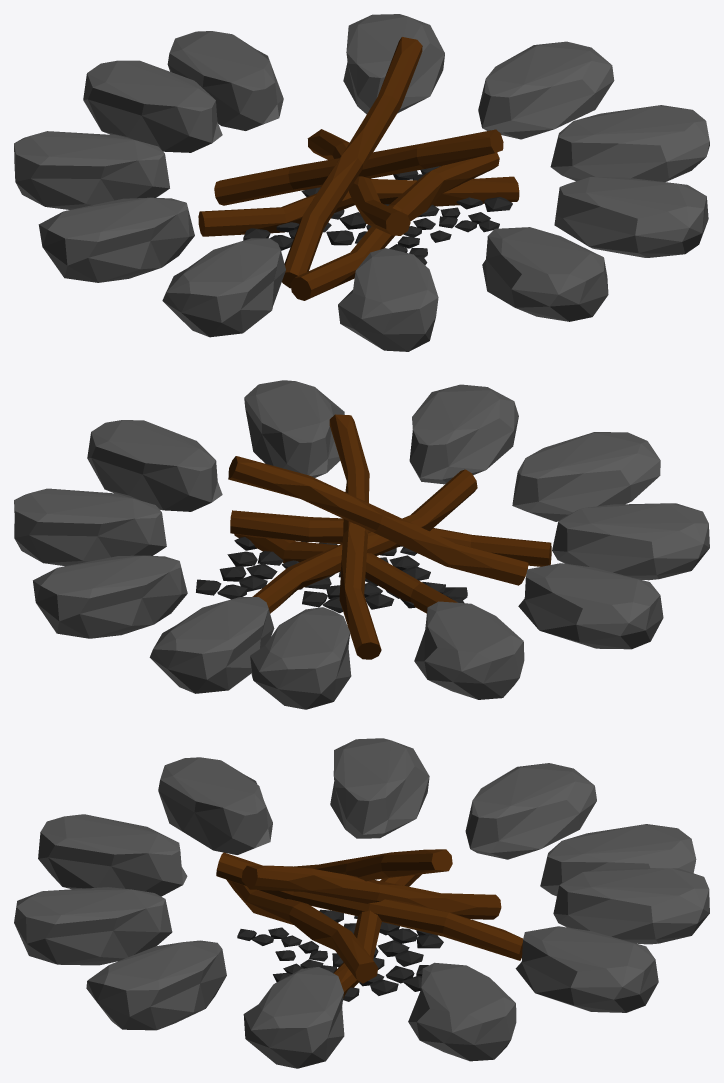
Rendered from Campfire_var_01.fbx.
3 renders of one model, top to bottom at view 1: azimuth 30°, elevation 25°; view 2: azimuth 150°, elevation 25°; view 3: azimuth 270°, elevation 25°, orthographic.
Visible parts, largest first — view 1: Campfire_var_01, Stick.001, Coal.001; view 2: Campfire_var_01, Stick.001, Coal.001; view 3: Campfire_var_01, Stick.001, Coal.001.
Part boxes in pixels (left/top/right/bottom): Campfire_var_01: left=14, top=14, right=709, bottom=351; Stick.001: left=198, top=37, right=519, bottom=300; Coal.001: left=243, top=166, right=512, bottom=265; Campfire_var_01: left=14, top=380, right=709, bottom=709; Stick.001: left=228, top=414, right=551, bottom=659; Coal.001: left=196, top=537, right=467, bottom=613; Campfire_var_01: left=14, top=738, right=709, bottom=1068; Stick.001: left=216, top=849, right=522, bottom=998; Coal.001: left=237, top=879, right=443, bottom=1001.
Size of the model in its own units: 216 by 49.65 by 218.
